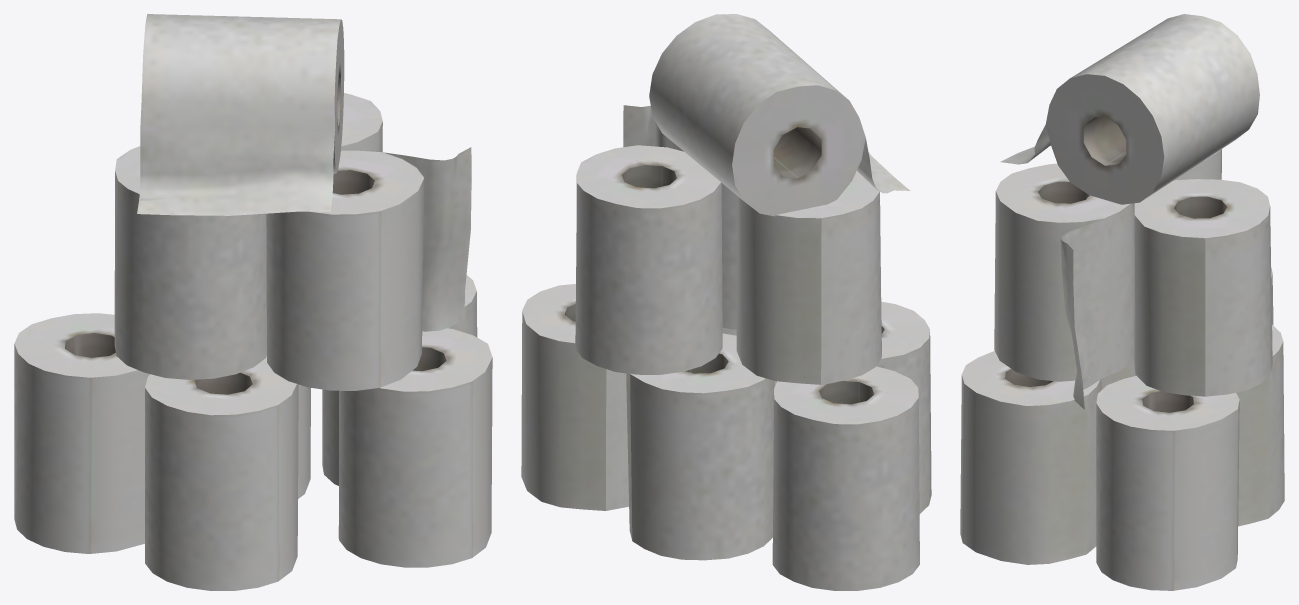
The model's file is sm39_141_toiletpaperset01a.fbx.
3 views of the same model, side by side, from view 1: azimuth 30°, elevation 25°; view 2: azimuth 150°, elevation 25°; view 3: azimuth 270°, elevation 25° (orthographic). The views are drawn at different scales.
Visible parts, largest first — view 1: LOD_1_Group_1_Sub_1__sm44_002_OpenToilet01A_A_Mat, LOD_1_Group_9_Sub_1__sm44_002_OpenToilet01A_A_Mat, LOD_1_Group_6_Sub_1__sm44_002_OpenToilet01A_A_Mat, LOD_1_Group_7_Sub_1__sm44_002_OpenToilet01A_A_Mat, LOD_1_Group_2_Sub_1__sm44_002_OpenToilet01A_A_Mat, LOD_1_Group_8_Sub_1__sm44_002_OpenToilet01A_A_Mat, LOD_1_Group_4_Sub_1__sm44_002_OpenToilet01A_A_Mat, LOD_1_Group_5_Sub_1__sm44_002_OpenToilet01A_A_Mat, LOD_1_Group_3_Sub_1__sm44_002_OpenToilet01A_A_Mat; view 2: LOD_1_Group_5_Sub_1__sm44_002_OpenToilet01A_A_Mat, LOD_1_Group_9_Sub_1__sm44_002_OpenToilet01A_A_Mat, LOD_1_Group_2_Sub_1__sm44_002_OpenToilet01A_A_Mat, LOD_1_Group_3_Sub_1__sm44_002_OpenToilet01A_A_Mat, LOD_1_Group_8_Sub_1__sm44_002_OpenToilet01A_A_Mat, LOD_1_Group_4_Sub_1__sm44_002_OpenToilet01A_A_Mat, LOD_1_Group_6_Sub_1__sm44_002_OpenToilet01A_A_Mat, LOD_1_Group_1_Sub_1__sm44_002_OpenToilet01A_A_Mat; view 3: LOD_1_Group_9_Sub_1__sm44_002_OpenToilet01A_A_Mat, LOD_1_Group_5_Sub_1__sm44_002_OpenToilet01A_A_Mat, LOD_1_Group_4_Sub_1__sm44_002_OpenToilet01A_A_Mat, LOD_1_Group_1_Sub_1__sm44_002_OpenToilet01A_A_Mat, LOD_1_Group_7_Sub_1__sm44_002_OpenToilet01A_A_Mat, LOD_1_Group_3_Sub_1__sm44_002_OpenToilet01A_A_Mat, LOD_1_Group_8_Sub_1__sm44_002_OpenToilet01A_A_Mat.
Boxes of the visible parts, x1,y1,x2,y2 form: LOD_1_Group_1_Sub_1__sm44_002_OpenToilet01A_A_Mat: (266, 147, 471, 390); LOD_1_Group_9_Sub_1__sm44_002_OpenToilet01A_A_Mat: (137, 14, 344, 215); LOD_1_Group_6_Sub_1__sm44_002_OpenToilet01A_A_Mat: (145, 356, 298, 590); LOD_1_Group_7_Sub_1__sm44_002_OpenToilet01A_A_Mat: (338, 328, 492, 567); LOD_1_Group_2_Sub_1__sm44_002_OpenToilet01A_A_Mat: (14, 313, 149, 553); LOD_1_Group_8_Sub_1__sm44_002_OpenToilet01A_A_Mat: (114, 146, 266, 379); LOD_1_Group_4_Sub_1__sm44_002_OpenToilet01A_A_Mat: (322, 275, 477, 485); LOD_1_Group_5_Sub_1__sm44_002_OpenToilet01A_A_Mat: (341, 93, 382, 152); LOD_1_Group_3_Sub_1__sm44_002_OpenToilet01A_A_Mat: (298, 384, 310, 498); LOD_1_Group_5_Sub_1__sm44_002_OpenToilet01A_A_Mat: (575, 145, 722, 374); LOD_1_Group_9_Sub_1__sm44_002_OpenToilet01A_A_Mat: (649, 14, 910, 216); LOD_1_Group_2_Sub_1__sm44_002_OpenToilet01A_A_Mat: (772, 366, 919, 590); LOD_1_Group_3_Sub_1__sm44_002_OpenToilet01A_A_Mat: (626, 333, 774, 560); LOD_1_Group_8_Sub_1__sm44_002_OpenToilet01A_A_Mat: (736, 171, 881, 384); LOD_1_Group_4_Sub_1__sm44_002_OpenToilet01A_A_Mat: (521, 284, 628, 510); LOD_1_Group_6_Sub_1__sm44_002_OpenToilet01A_A_Mat: (876, 301, 931, 513); LOD_1_Group_1_Sub_1__sm44_002_OpenToilet01A_A_Mat: (623, 105, 737, 329); LOD_1_Group_9_Sub_1__sm44_002_OpenToilet01A_A_Mat: (1000, 14, 1259, 204); LOD_1_Group_5_Sub_1__sm44_002_OpenToilet01A_A_Mat: (1134, 179, 1272, 396); LOD_1_Group_4_Sub_1__sm44_002_OpenToilet01A_A_Mat: (1096, 375, 1239, 590); LOD_1_Group_1_Sub_1__sm44_002_OpenToilet01A_A_Mat: (994, 163, 1134, 409); LOD_1_Group_7_Sub_1__sm44_002_OpenToilet01A_A_Mat: (960, 351, 1101, 564); LOD_1_Group_3_Sub_1__sm44_002_OpenToilet01A_A_Mat: (1236, 325, 1284, 526); LOD_1_Group_8_Sub_1__sm44_002_OpenToilet01A_A_Mat: (1174, 149, 1221, 180).
Size of the model in its own units: 0.2752 by 0.3042 by 0.2016.
